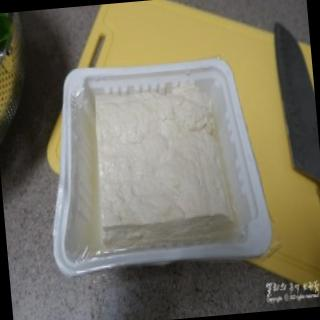Tahu: (94, 90, 241, 251)
